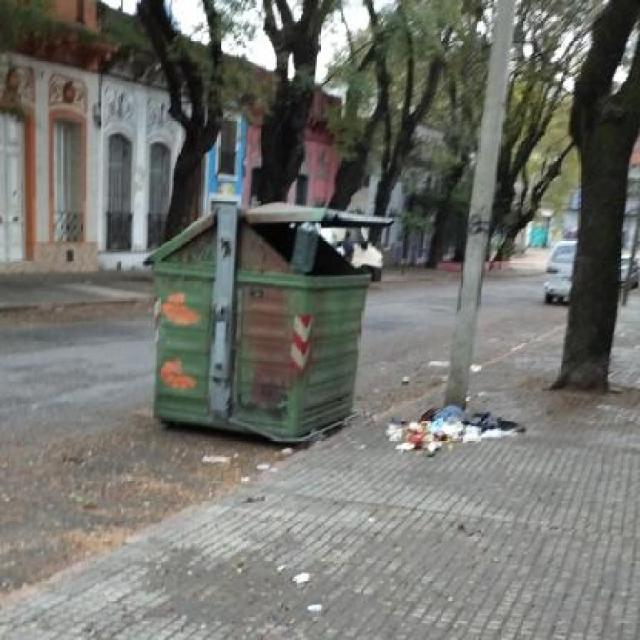garbage: (356, 403, 545, 478)
